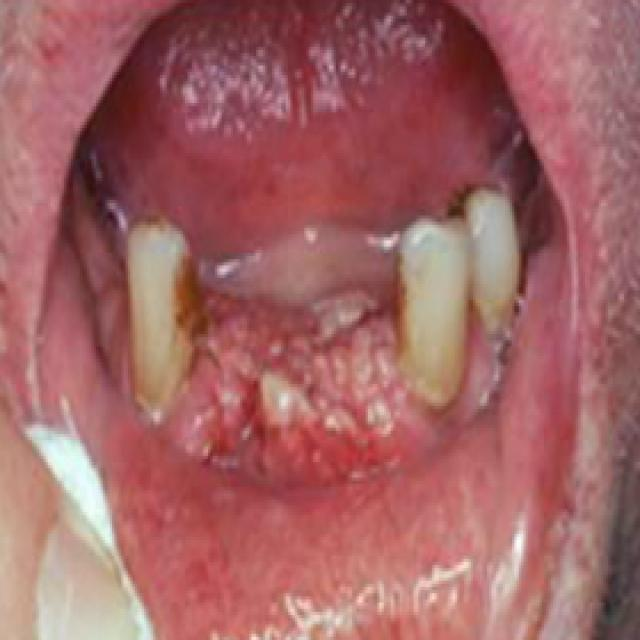Cancer: (187, 279, 426, 498)
